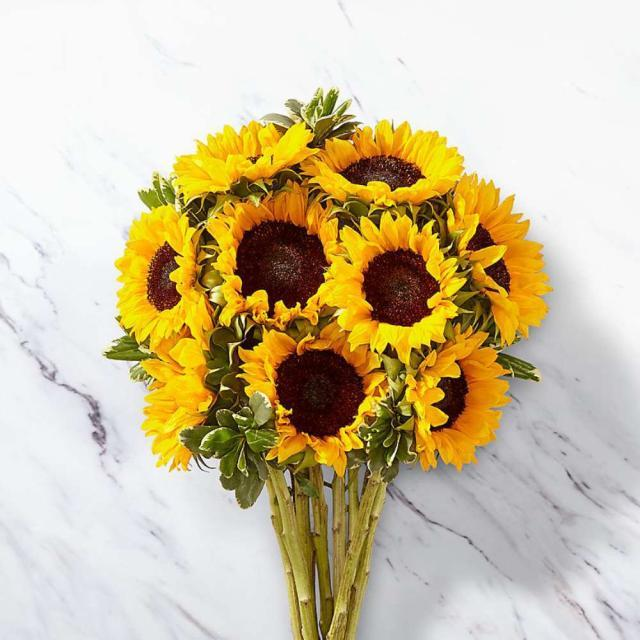sunflower: (235, 317, 386, 477), (318, 210, 466, 364), (205, 178, 340, 327), (444, 173, 554, 347), (403, 324, 512, 472), (300, 120, 466, 208), (113, 204, 212, 350), (172, 119, 318, 204), (140, 334, 218, 472)
